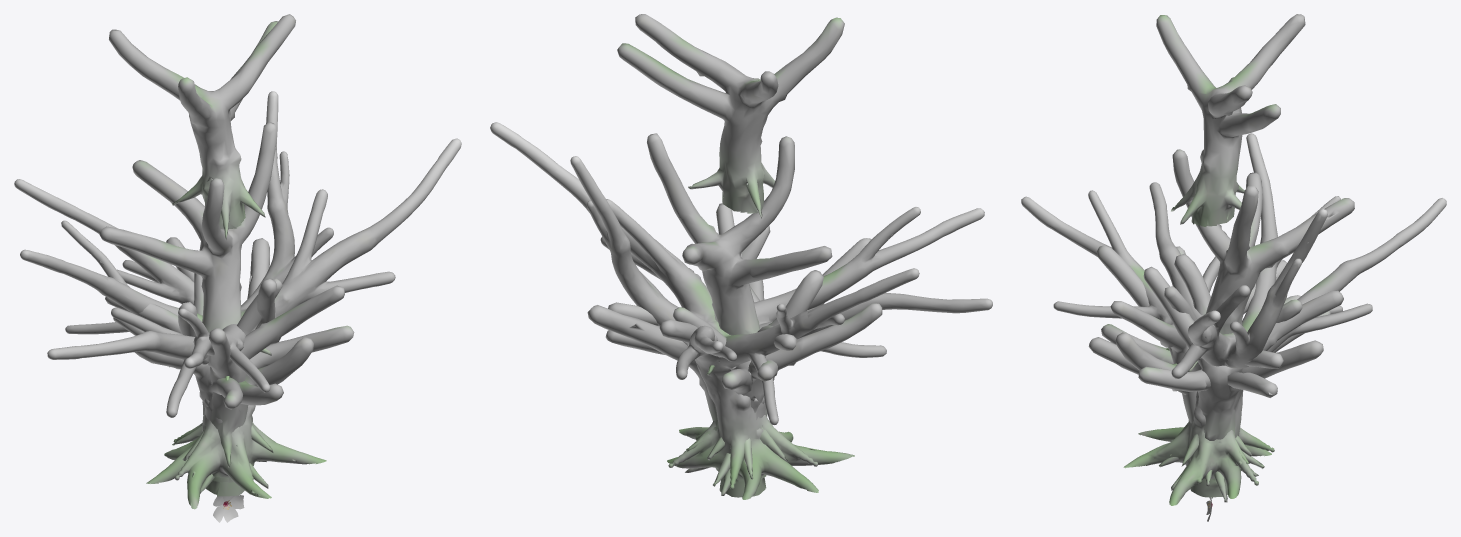
The model's file is cherry.glb.
The picture shows the model from 3 angles, left to right: view 1: azimuth 30°, elevation 25°; view 2: azimuth 150°, elevation 25°; view 3: azimuth 270°, elevation 25°; orthographic projection. The views are drawn at different scales.
Parts seen in each view (by area): view 1: trunk0, trunk5, trunk3, trunk6, trunk2, trunk1, trunk4, flower; view 2: trunk0, trunk3, trunk5, trunk4, trunk1, trunk6, trunk2; view 3: trunk0, trunk3, trunk4, trunk5, trunk6, trunk2, trunk1.
Boxes of the visible parts, left/top/right/bottom form: trunk0: left=14, top=91, right=461, bottom=509; trunk5: left=99, top=122, right=277, bottom=380; trunk3: left=109, top=14, right=295, bottom=239; trunk6: left=105, top=285, right=344, bottom=467; trunk2: left=113, top=317, right=354, bottom=496; trunk1: left=134, top=273, right=282, bottom=482; trunk4: left=166, top=237, right=276, bottom=475; flower: left=213, top=495, right=244, bottom=522; trunk0: left=490, top=122, right=992, bottom=499; trunk3: left=617, top=14, right=844, bottom=218; trunk5: left=647, top=133, right=832, bottom=374; trunk4: left=587, top=225, right=823, bottom=479; trunk1: left=605, top=252, right=882, bottom=486; trunk6: left=608, top=203, right=871, bottom=461; trunk2: left=685, top=268, right=777, bottom=497; trunk0: left=1021, top=133, right=1446, bottom=505; trunk3: left=1156, top=14, right=1305, bottom=226; trunk4: left=1143, top=253, right=1343, bottom=466; trunk5: left=1166, top=149, right=1354, bottom=371; trunk6: left=1097, top=245, right=1286, bottom=456; trunk2: left=1088, top=295, right=1330, bottom=502; trunk1: left=1101, top=246, right=1302, bottom=486.
Bounding box in the file's own units: 11.7 × 12 × 9.74.
